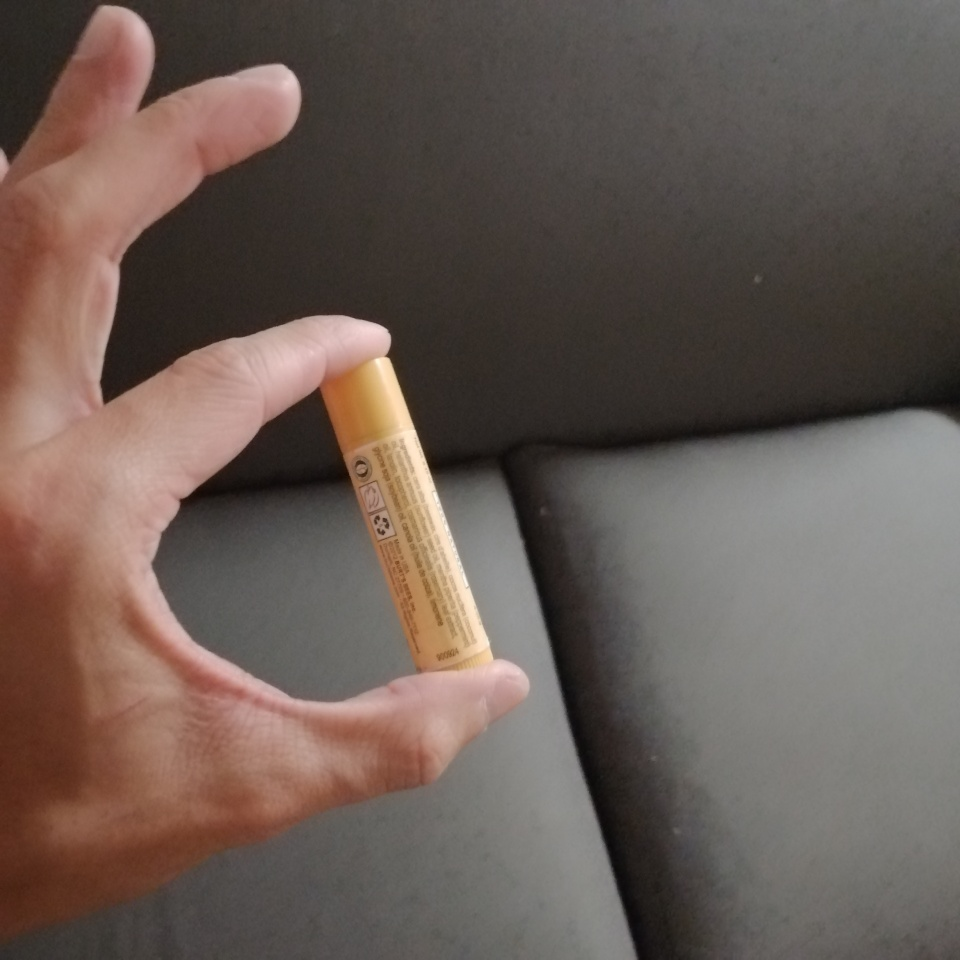chapstick: (318, 354, 497, 679)
